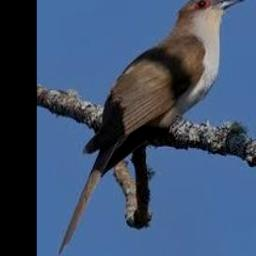Cuckoo: (58, 0, 245, 255)
